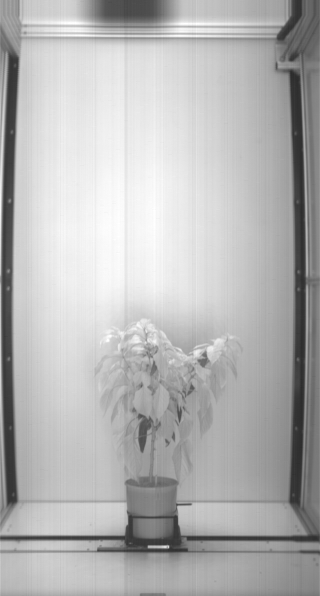bell-pepper fooled_you: (138, 419, 150, 453), (200, 351, 208, 371), (176, 401, 182, 422), (187, 382, 195, 395), (150, 363, 156, 379)
